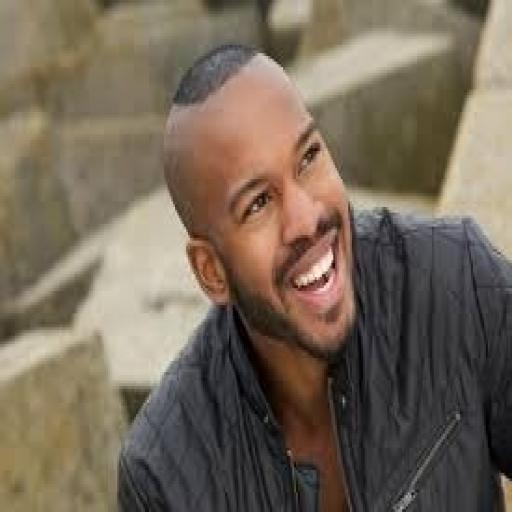laughing: (112, 31, 510, 509)
